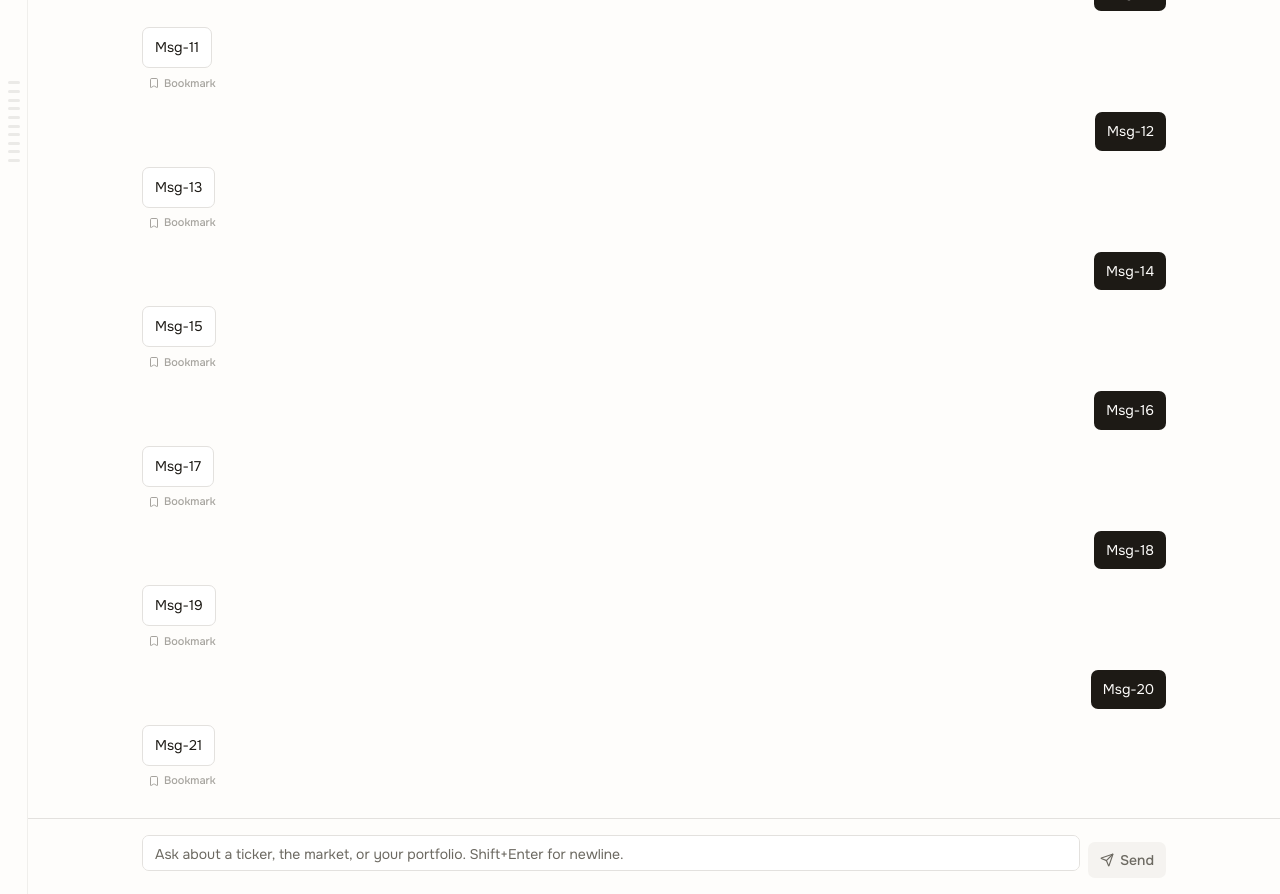
it: ChatInterface — Render Windowing › new question is always visible immediately after sending
The width and height of the screenshot is (1280, 894).
(page scrolled)
Type "My new question" into the text box with placeholder "Ask" at (611, 852), box [142,834,1080,870]
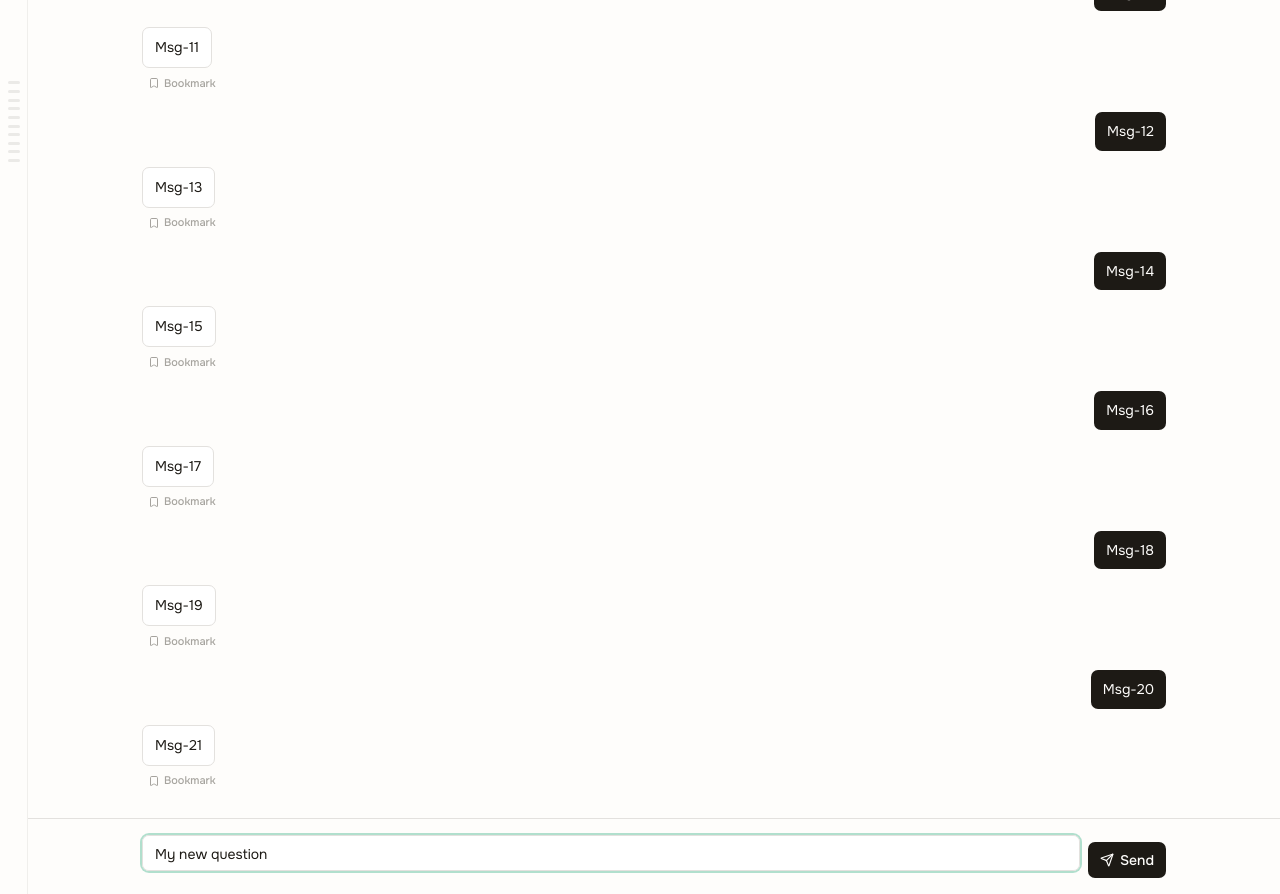
Press Enter
(page scrolled)
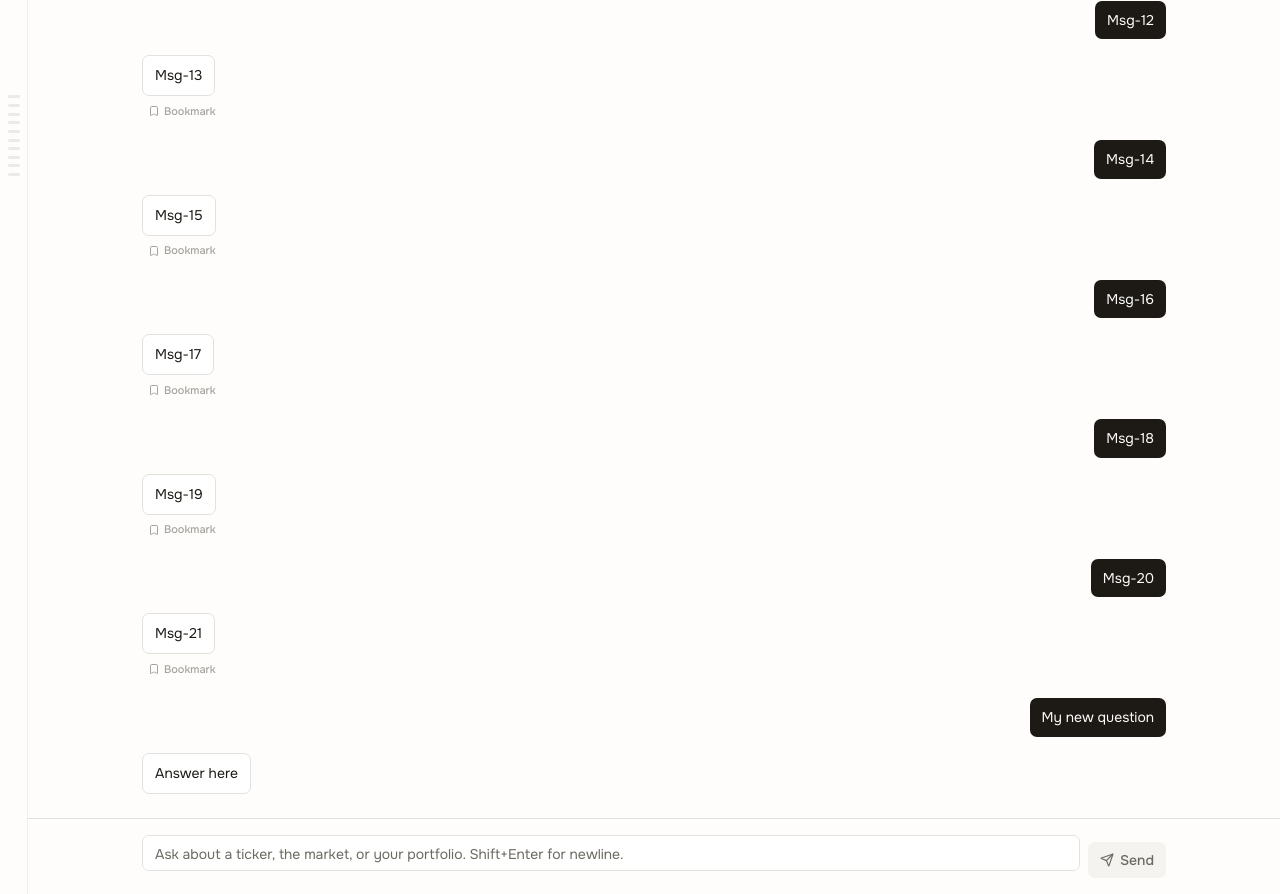
Result: the text "My new question" is shown at [1042,706,1154,729]
